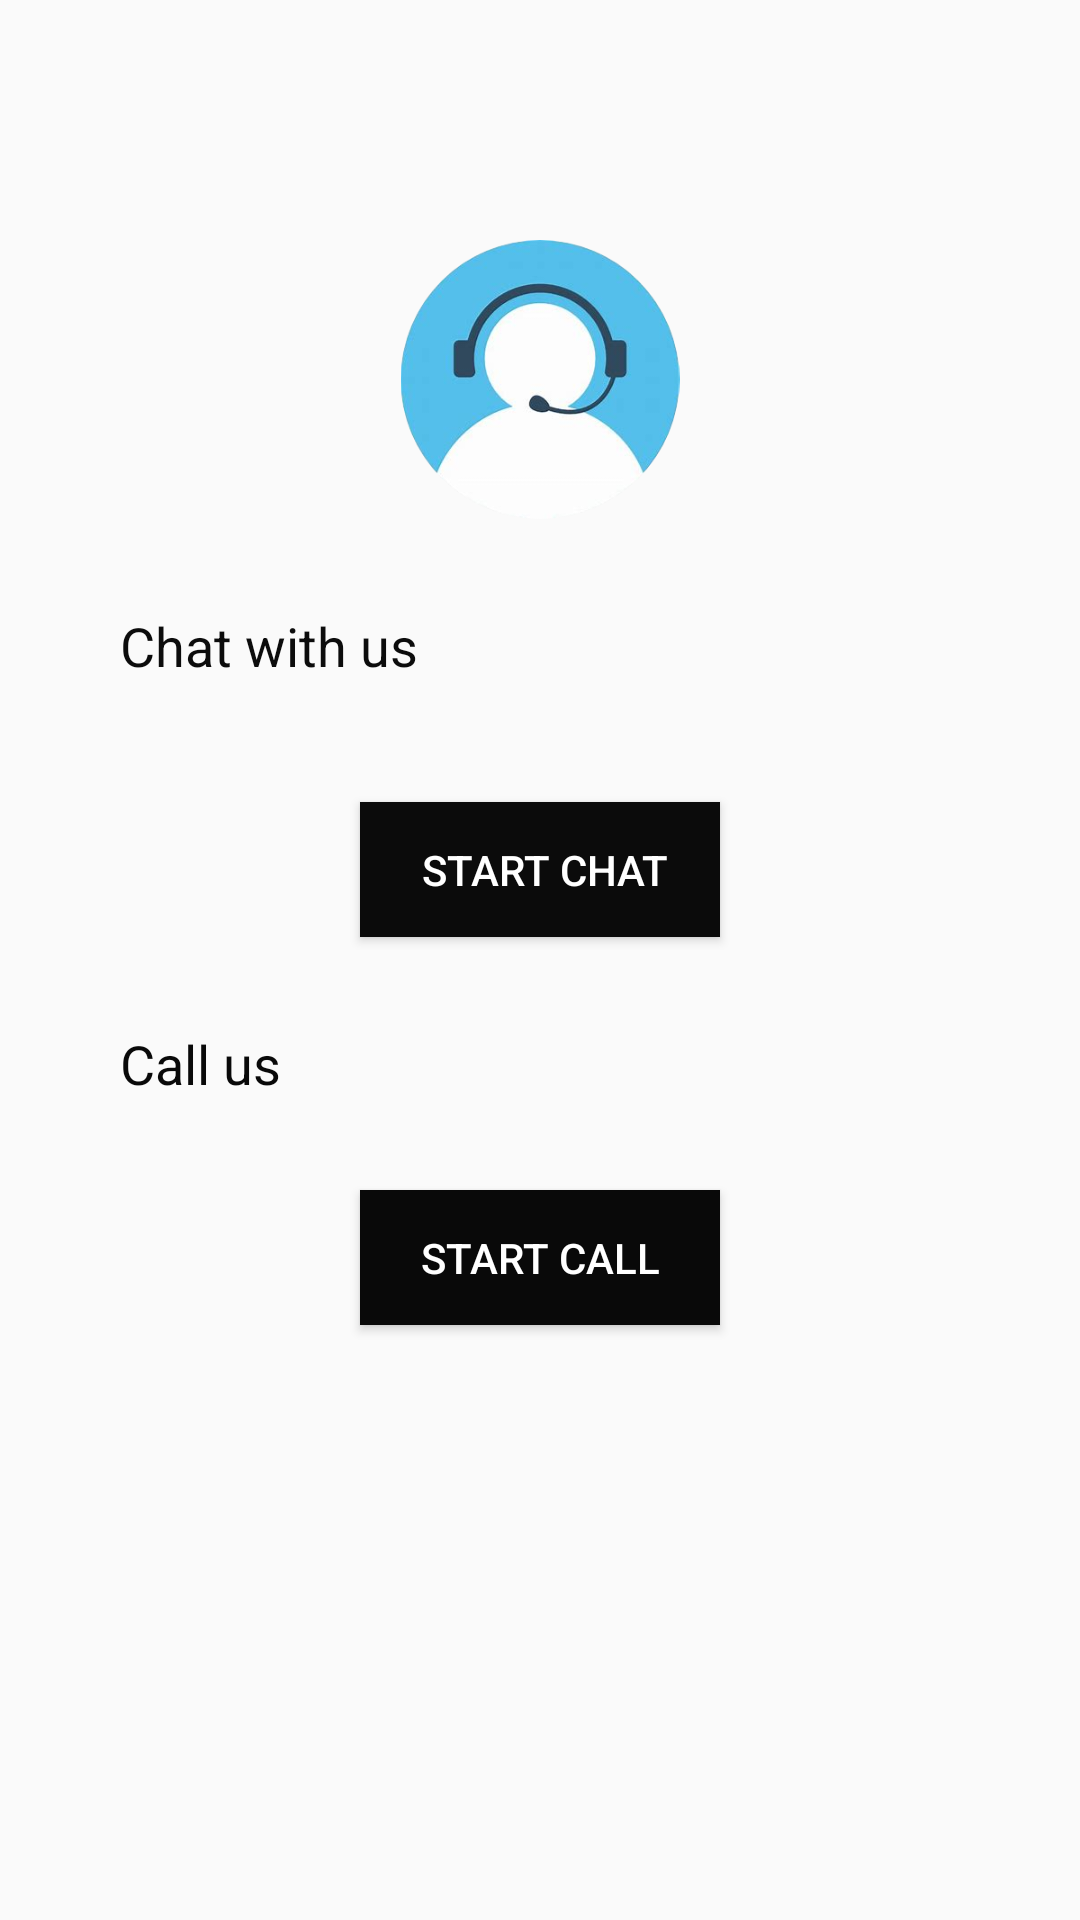

Icons on this 1080 × 1920 Android screen, each with the point to tap as (x,y):
customersupport: (540,356)
